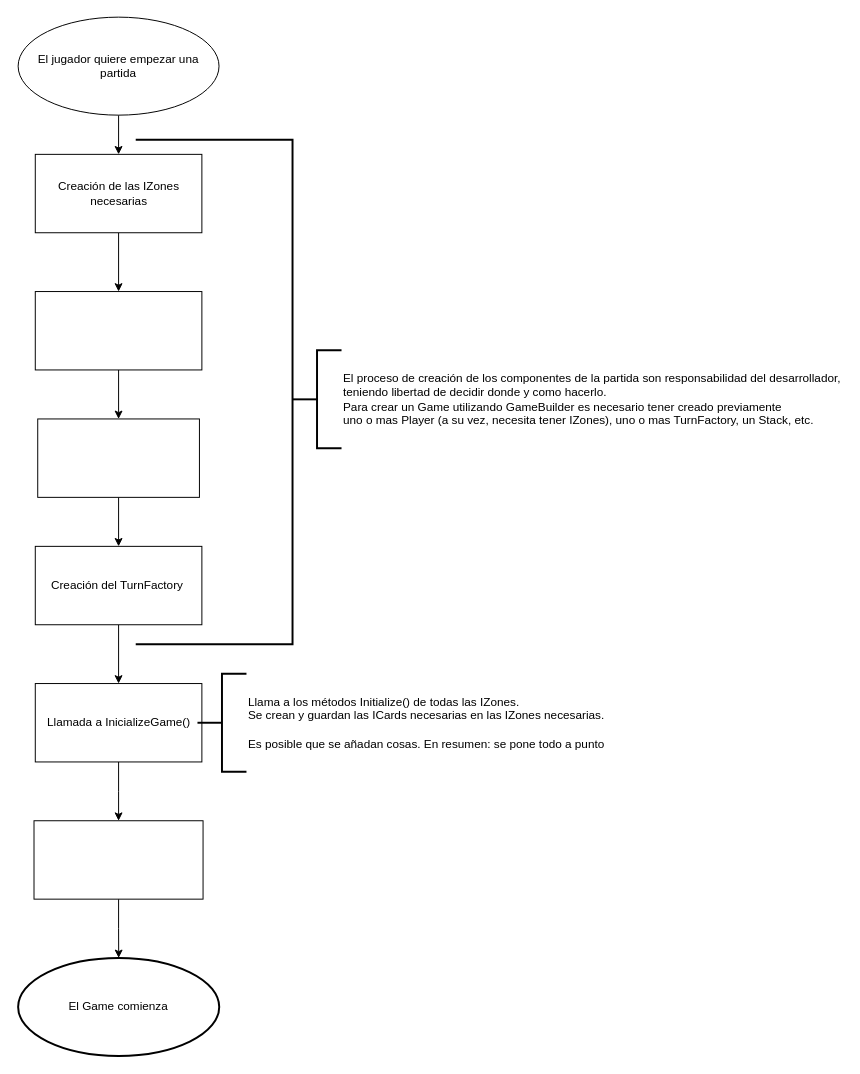
Some shapes in this 860 by 1074 pixel diagram are drawn without their labels. Here are the shapes that lost their labels. From the top down, the centre of each, then its label:
At (118,330): "Creación Player (uno o mas), utilizando PlayerBuilder".
At (118,457): "Creación Game, utilizando GameBuilder".
At (118,859): "Llamada a StartGame()".
